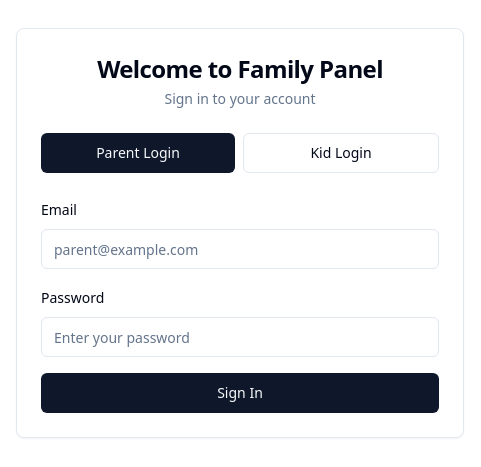
Test: Login Page › switches to kid login mode
Click the button "Kid Login". click: [341, 153]
box: [243,133,439,173]
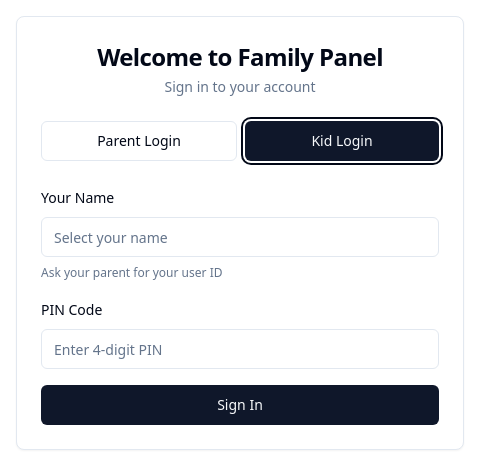
Expected: the field labelled "Your Name" is shown, [41,217,439,257]
Expected: the password field labelled "PIN Code" is shown, [41,329,439,369]
